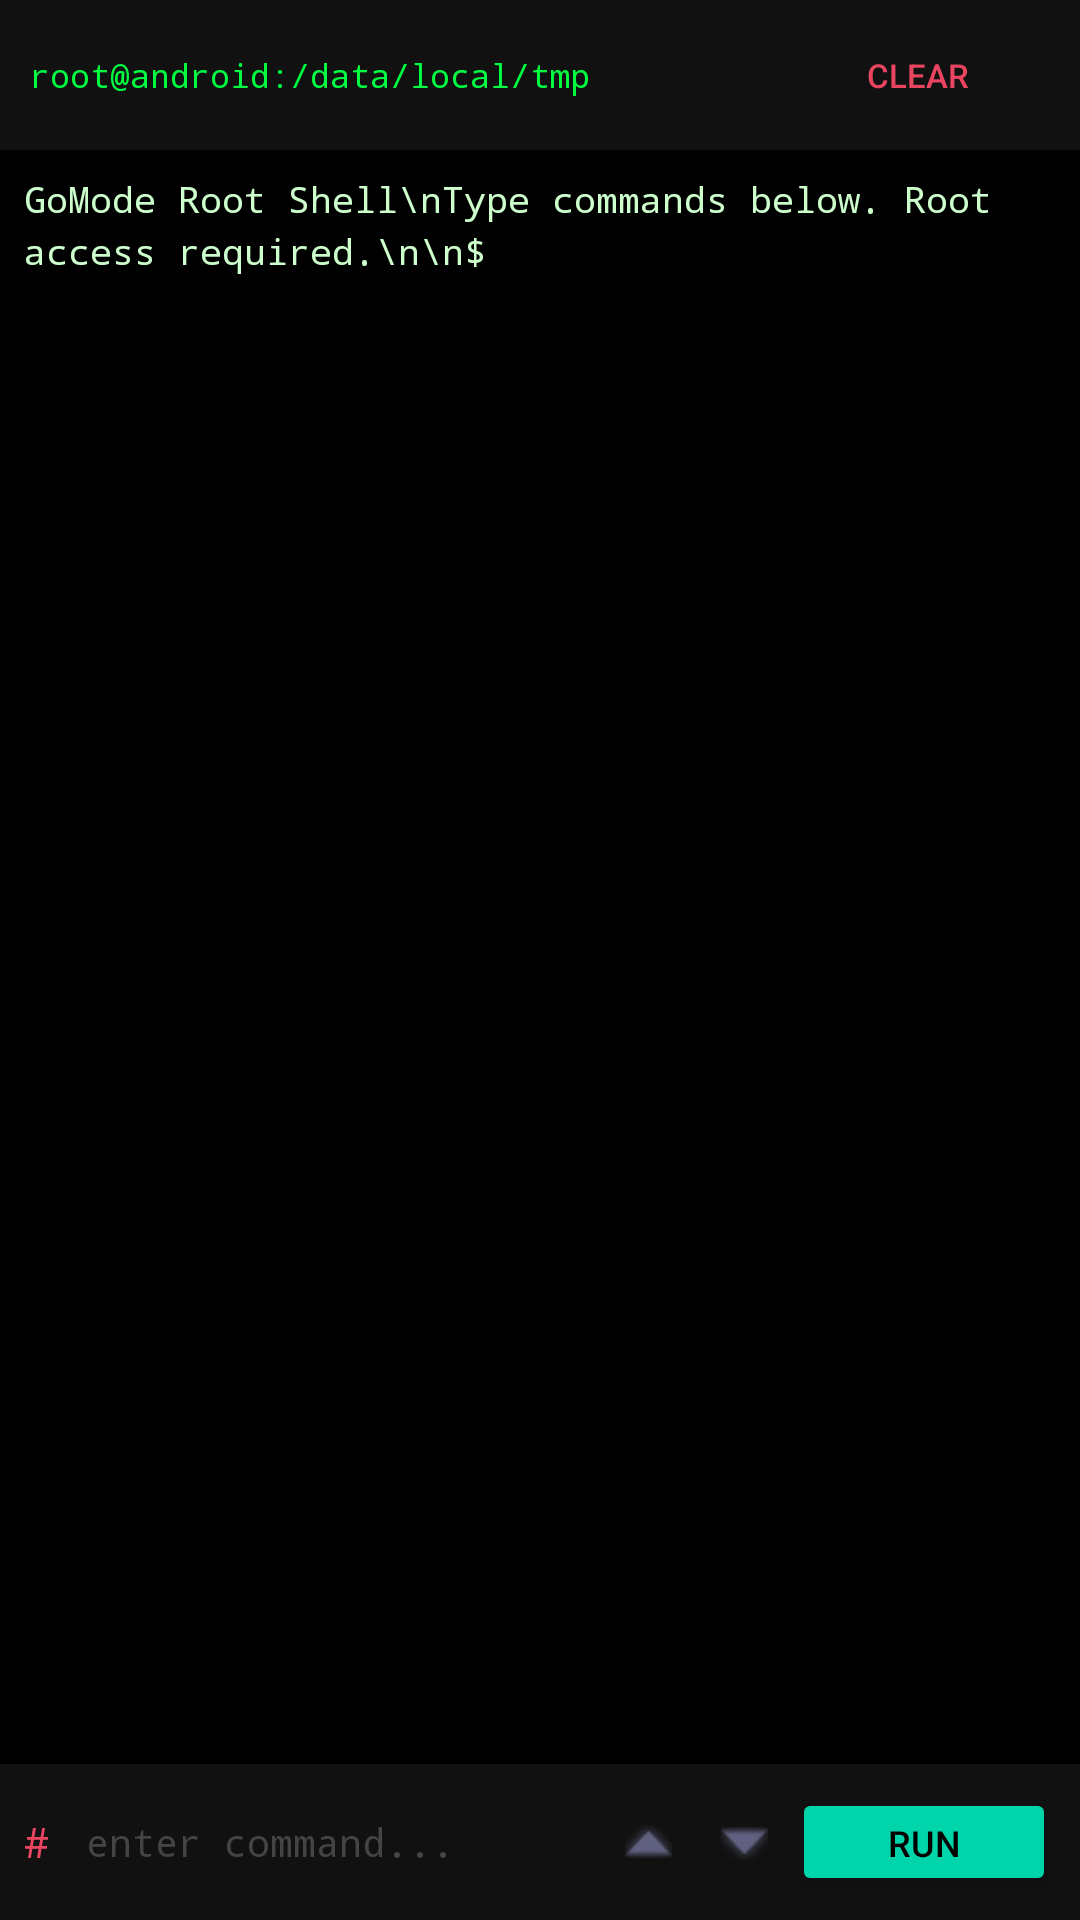

Screen size 1080 × 1920. Icon name, then its box in pixels as (x1, y1, x2, y2):
Next command: (721, 1828, 768, 1856)
Previous command: (625, 1829, 672, 1857)
